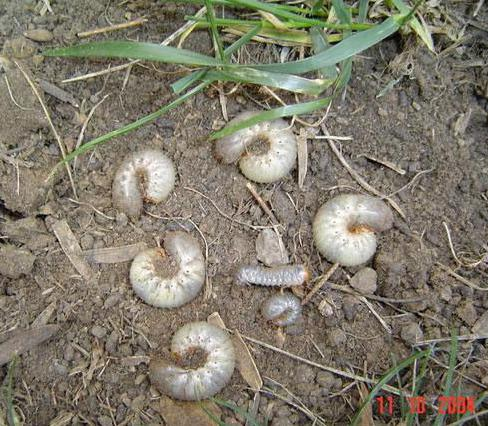grub: (313, 194, 396, 284)
